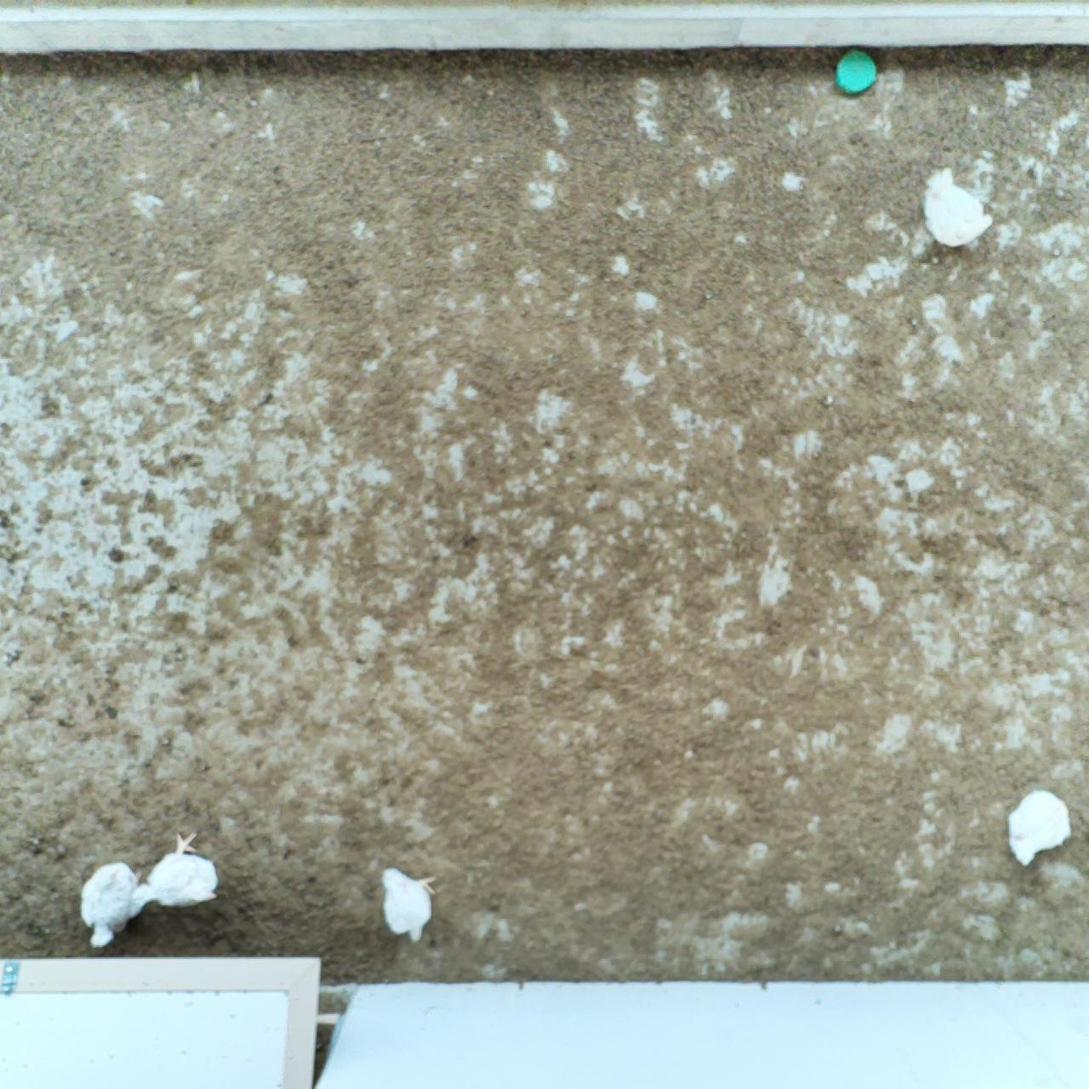chicken: (915, 161, 995, 258), (73, 856, 150, 953), (146, 824, 223, 909), (1004, 783, 1079, 868), (376, 861, 440, 940)
